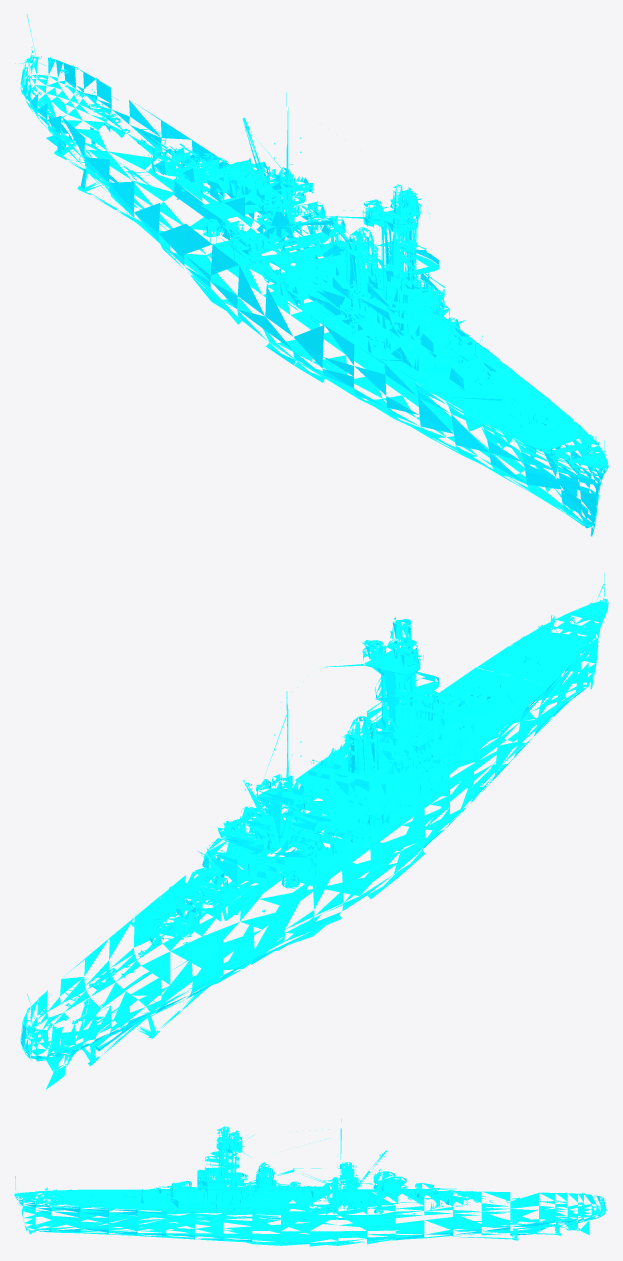
File: PFSC107.glb
The picture shows the model from 3 angles, top to bottom: view 1: azimuth 30°, elevation 25°; view 2: azimuth 150°, elevation 25°; view 3: azimuth 270°, elevation 25°; orthographic projection. The views are drawn at different scales.
Visible parts, largest first — view 1: hull_body; view 2: hull_body; view 3: hull_body.
Part boxes in pixels (x1,y1,x2,y2): hull_body: (15,14,608,536); hull_body: (20,573,608,1089); hull_body: (14,1118,606,1246).
Size of the model in its own units: 1.52 by 2.71 by 12.45.
